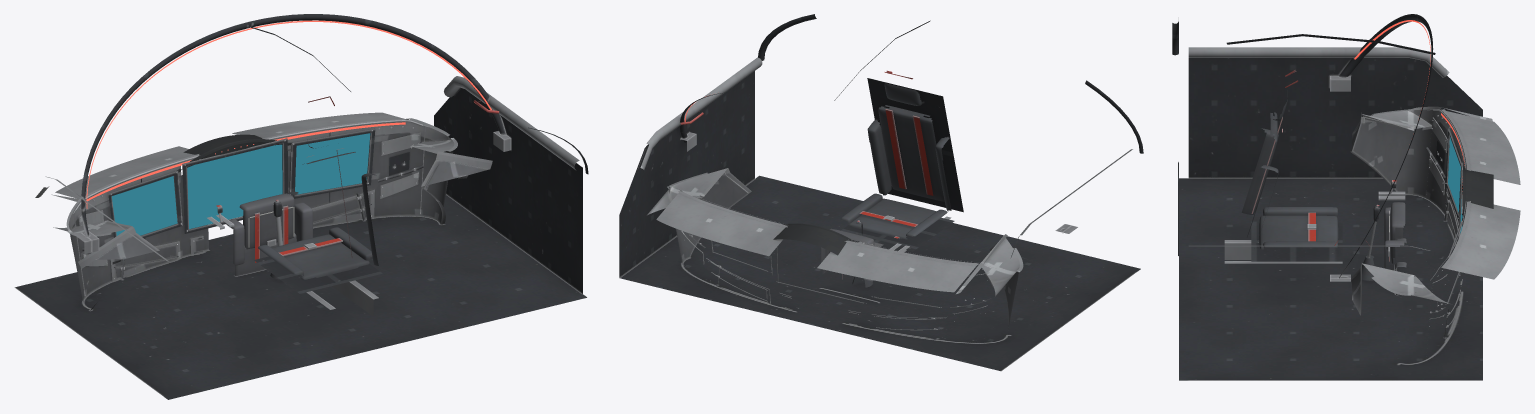
Rendered from sd_sahin_r014_aday_r001.glb.
3 renders of one model, left to right at view 1: azimuth 30°, elevation 25°; view 2: azimuth 150°, elevation 25°; view 3: azimuth 270°, elevation 25°, orthographic. The views are drawn at different scales.
Visible parts, largest first — view 1: LOD0_body, SCR_RADAR, SCR_HULL, SCR_SYS, LOD0_emit; view 2: LOD0_body; view 3: LOD0_body, SCR_SYS, LOD0_emit.
Part boxes in pixels (x1,y1,x2,y2): LOD0_body: (14,14,588,399); SCR_RADAR: (187,144,282,229); SCR_HULL: (295,133,370,194); SCR_SYS: (112,176,177,235); LOD0_emit: (85,20,491,208); LOD0_body: (619,14,1143,371); LOD0_body: (1172,14,1520,380); SCR_SYS: (1448,137,1460,212); LOD0_emit: (1354,20,1464,191).
Bounding box in the file's own units: 2.61 × 1.9 × 1.83.
Materials: 3 (1 with a texture image).
